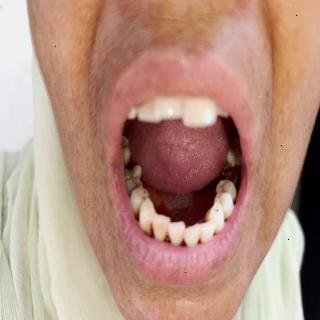cavities: (120, 157, 146, 183)
maligned: (195, 216, 223, 238)
